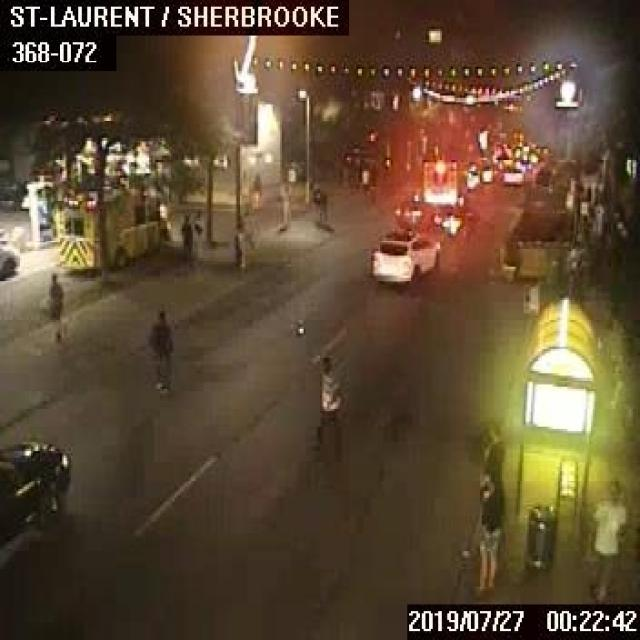construction: (368, 180, 377, 204)
pedestrian: (589, 476, 624, 600), (474, 476, 504, 586), (311, 354, 342, 448), (147, 309, 173, 389), (478, 422, 502, 482), (47, 266, 62, 338), (274, 180, 291, 233), (178, 209, 191, 264), (233, 218, 245, 264), (316, 191, 326, 225)
vehicle: (56, 185, 169, 269), (0, 436, 71, 556), (369, 227, 440, 280), (422, 157, 465, 201), (393, 196, 432, 228), (0, 238, 16, 274), (501, 166, 523, 184), (464, 162, 478, 187)
